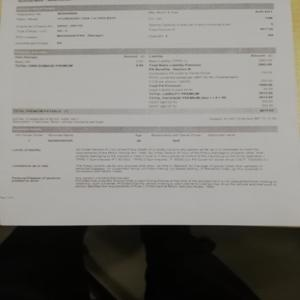table: (10, 50, 283, 116), (11, 125, 279, 191), (15, 2, 277, 50)
